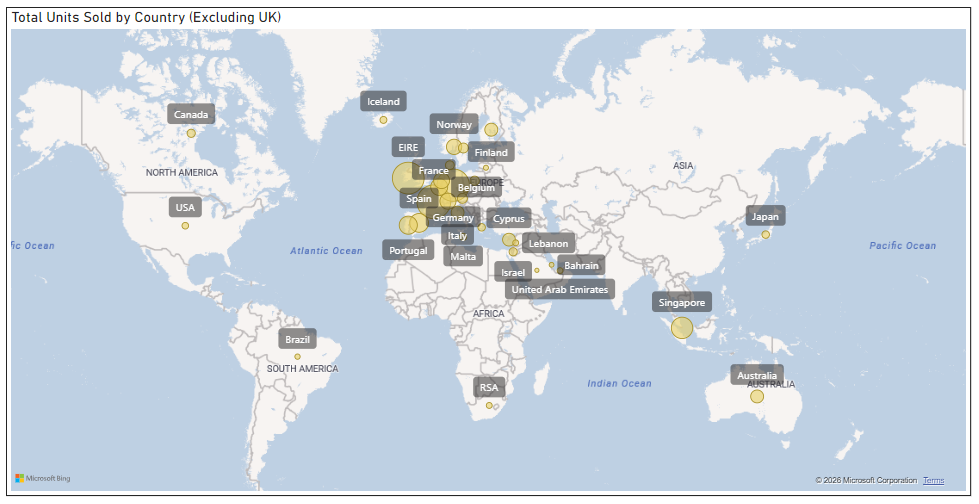

What the dashboard file says about the page in this screenshot:
{"tool":"powerbi","page":{"name":"Q4","canvas":[1280,720],"ordinal":3},"visuals":[{"type":"map","title":"Total Units Sold by Country (Excluding UK)","fields":{"Category":["Online Retail.Country"],"Size":["Sum(Online Retail.UnitPrice)"]},"box":[0,0,1280,720.1],"z":0}]}

Visuals, with their boxes on the page's 1280x720 design canvas (x1, y1, x2, y2). These are canvas units, not pixel positions in the 979x504 screenshot, which may show the page scaled, cropped or inside an application window:
"Total Units Sold by Country (Excluding UK)" map: {"x1": 0, "y1": 0, "x2": 1280, "y2": 720}
